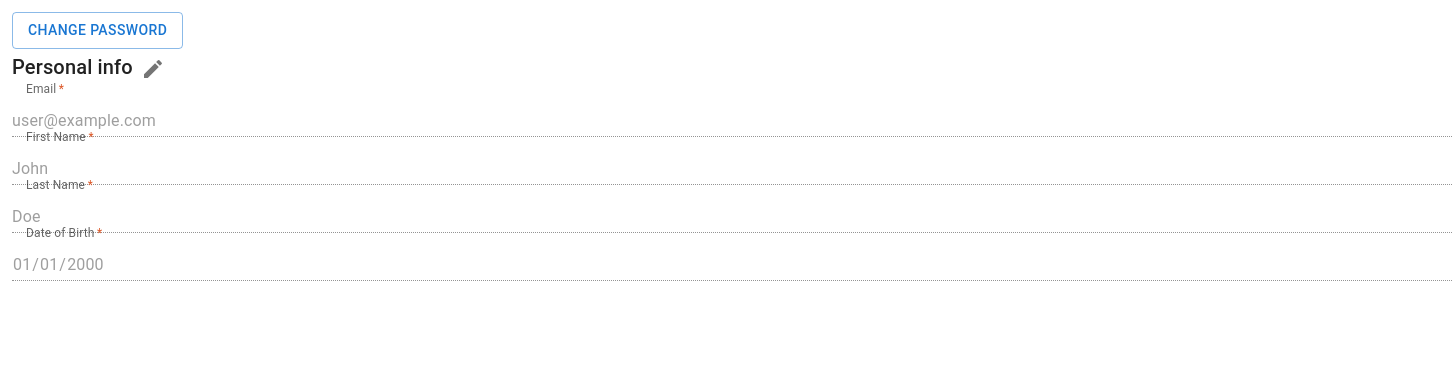
Test case: Profile › saves changes and shows success
Expected: the field labelled "Email *" is shown, top-left (12, 104), bottom-right (1444, 136)
Click the button named "edit personal info" at (153, 68), box top-left (133, 48), bottom-right (173, 88)
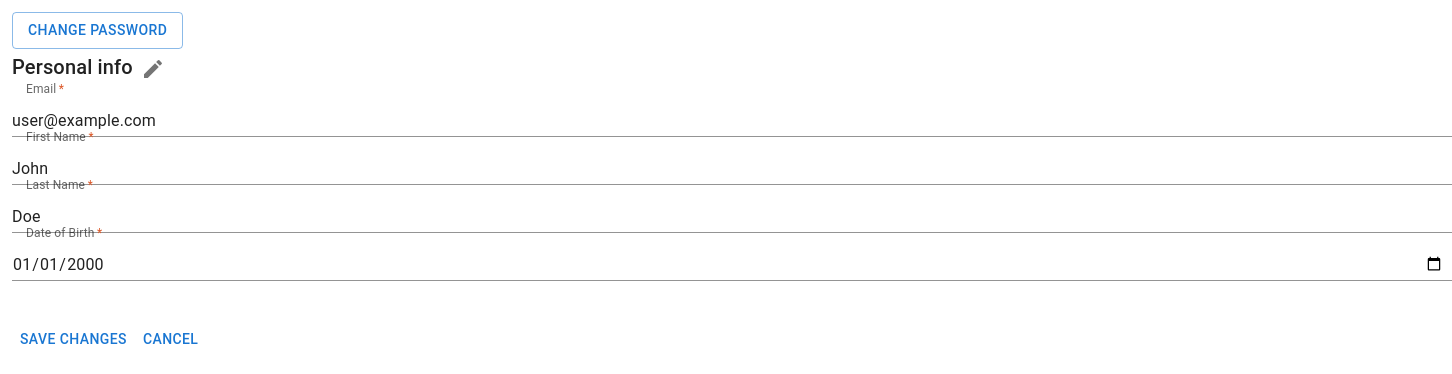
Replace the text in the field labelled "Email *" with "newemail@example.com" at (728, 120), box top-left (12, 104), bottom-right (1444, 136)
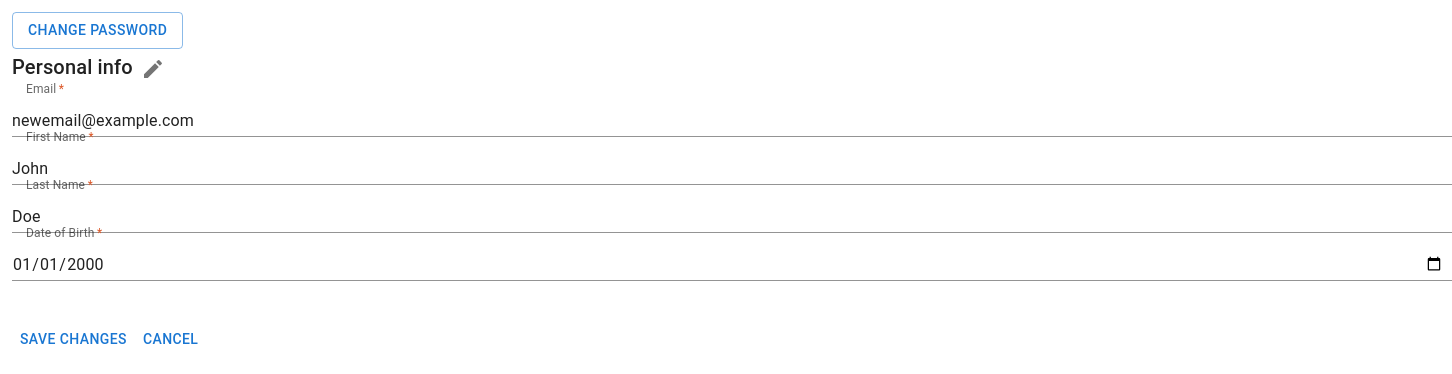
Click the button "Save changes" at (73, 339), box top-left (12, 320), bottom-right (135, 357)
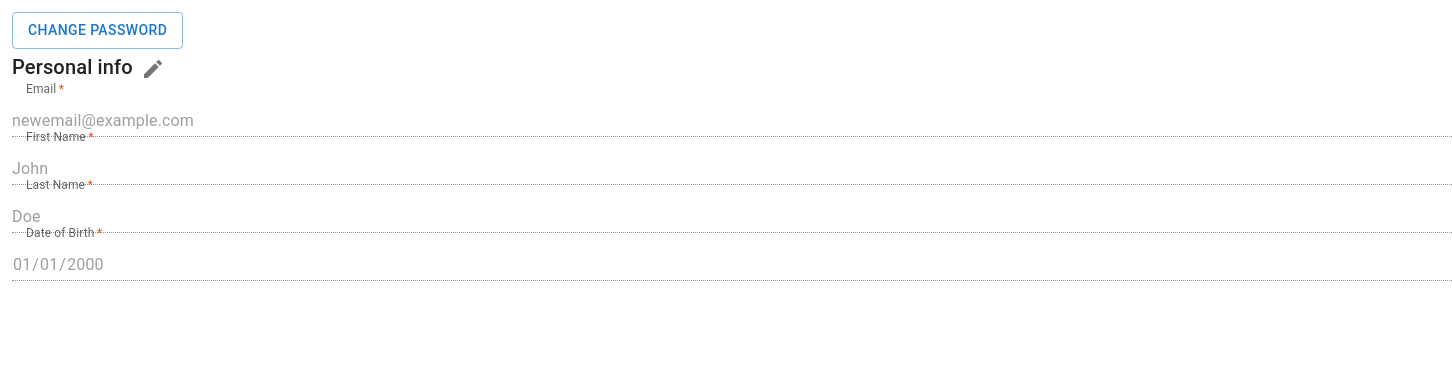
Expected: the field labelled "Email *" is disabled, top-left (12, 104), bottom-right (1444, 136)
